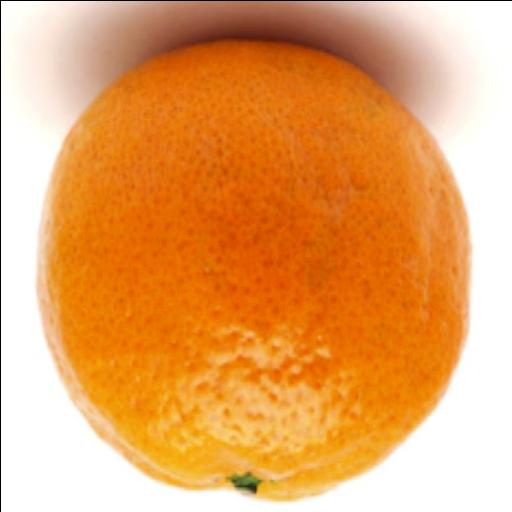orange: (38, 40, 469, 498)
